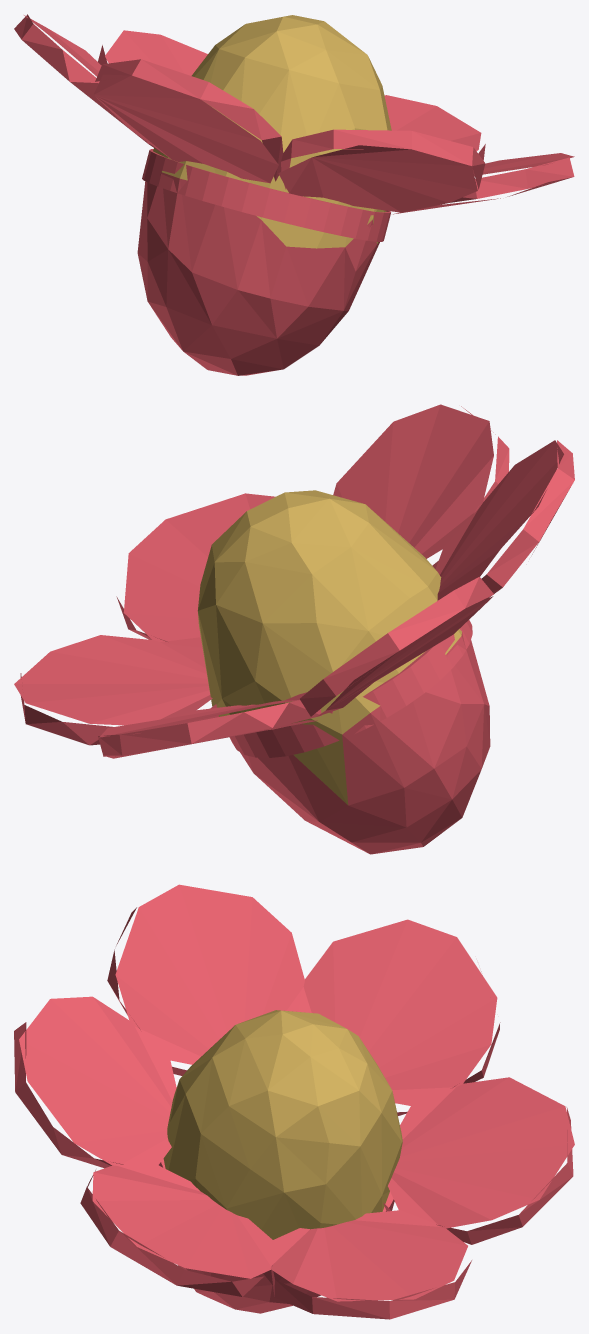
Rendered from flower-med.gltf.
3 renders of one model, top to bottom at view 1: azimuth 30°, elevation 25°; view 2: azimuth 150°, elevation 25°; view 3: azimuth 270°, elevation 25°, orthographic. The views are drawn at different scales.
Parts seen in each view (by area): view 1: flower-med; view 2: flower-med; view 3: flower-med.
Boxes of the visible parts, x1=… form: flower-med: x1=14, y1=14, x2=574, y2=375; flower-med: x1=14, y1=404, x2=574, y2=854; flower-med: x1=14, y1=884, x2=574, y2=1319.
Bounding box in the file's own units: 0.4581 × 0.3717 × 0.5229.
